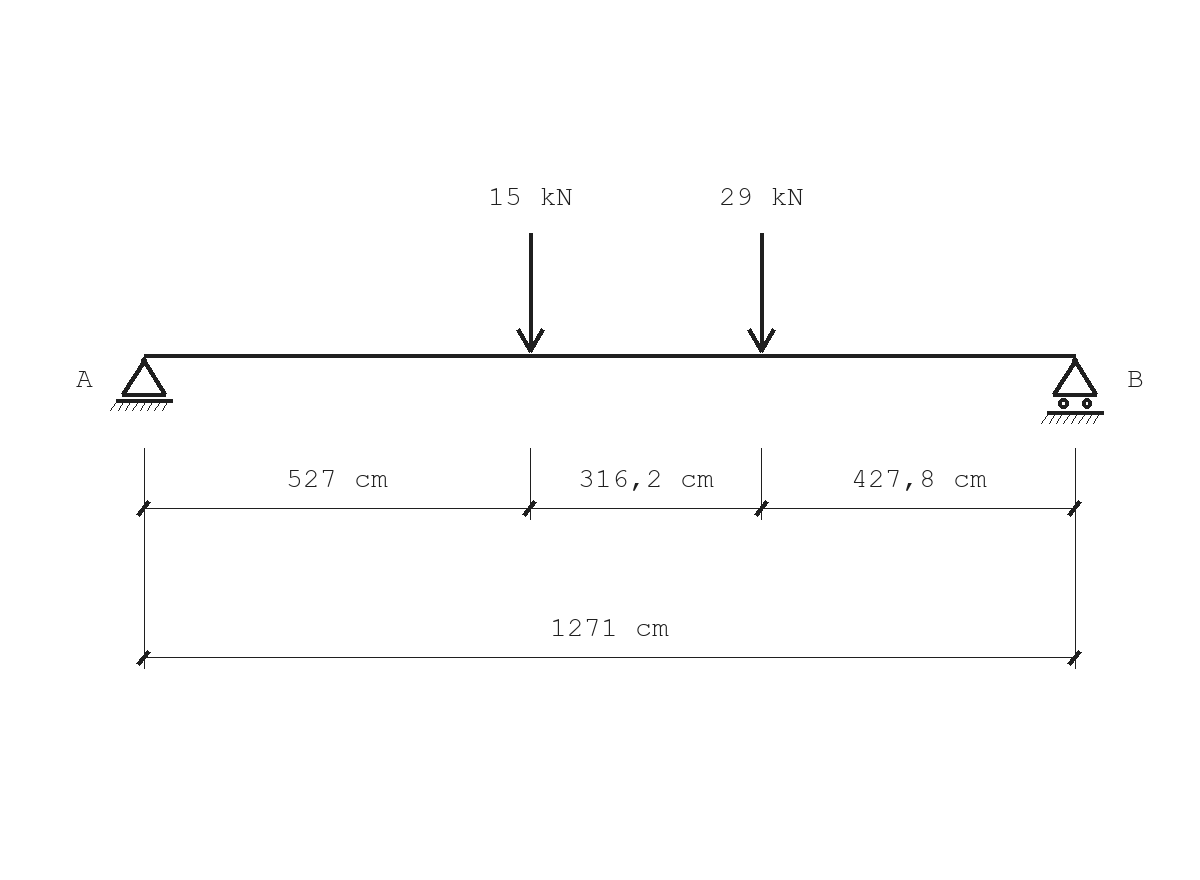pin_support: (110, 357, 173, 411)
point_load: (516, 233, 545, 353), (747, 233, 776, 353)
roller_support: (1041, 357, 1104, 424)
